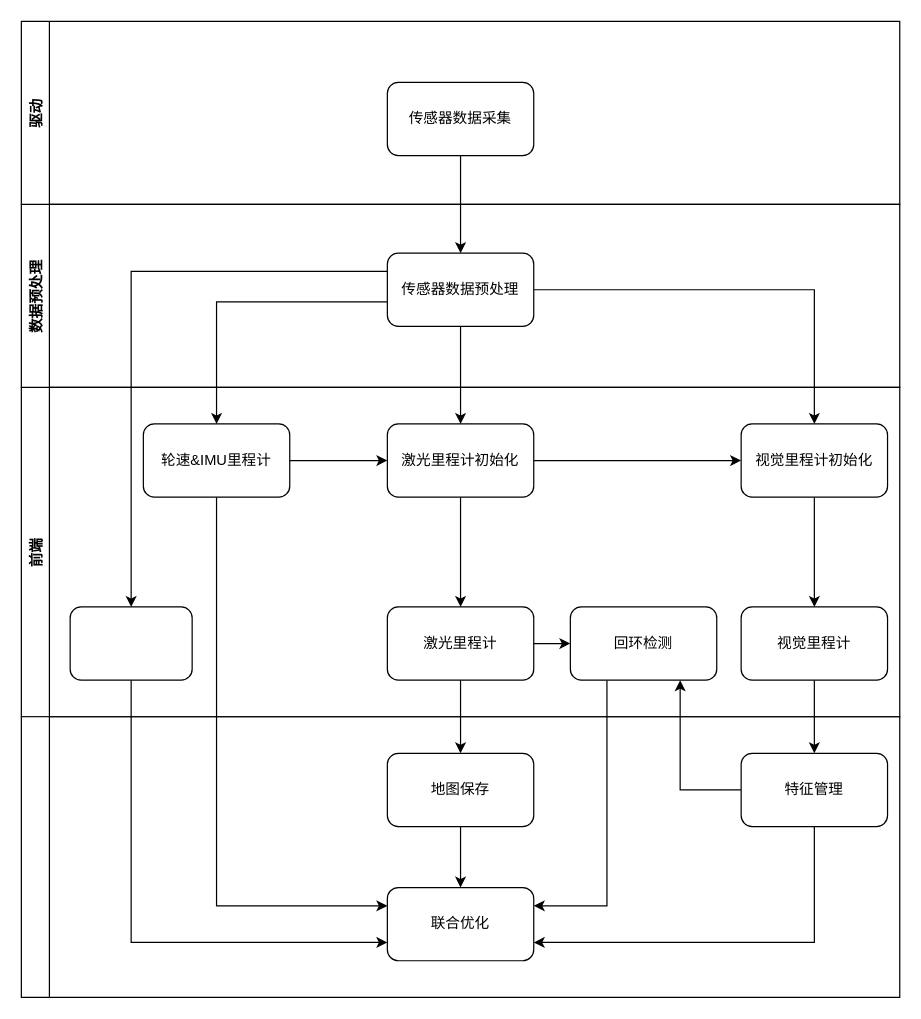
The diagram is 921 pixels wide and 1019 high, and some of its shapes have lost their labels. Each missing label, with the centre of its shape:
"GNSS全局定位" belongs at (x=130, y=643).
"后端" belongs at (x=460, y=856).
